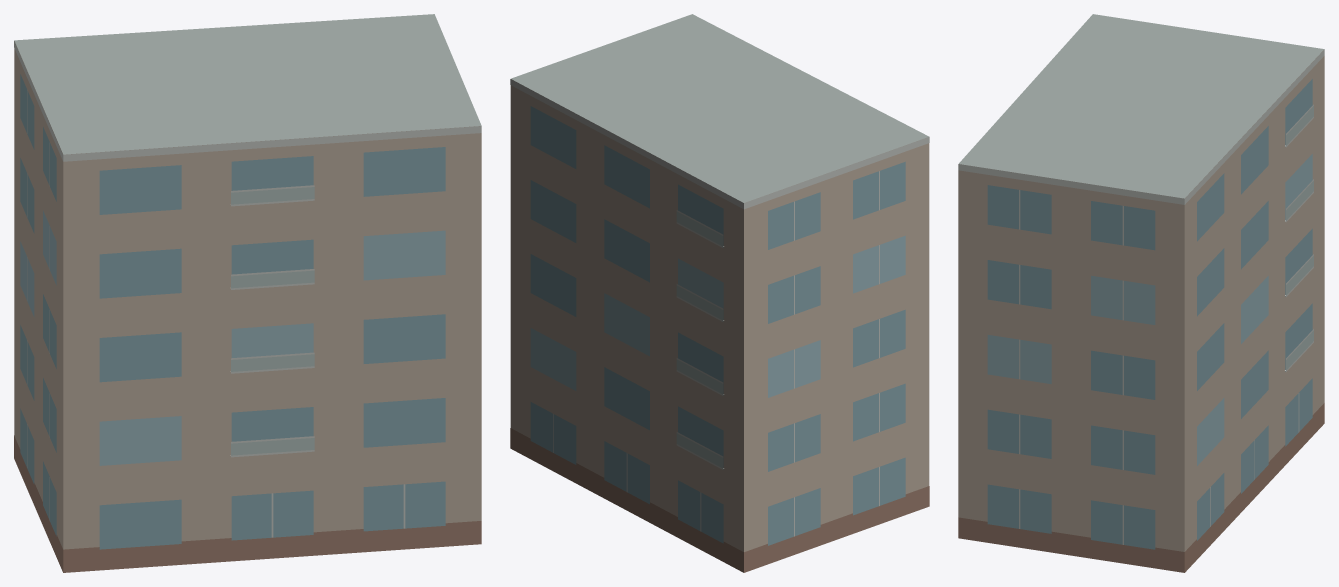
Rendered from survey-upis-32708248.glb.
The picture shows the model from 3 angles, left to right: view 1: azimuth 30°, elevation 25°; view 2: azimuth 150°, elevation 25°; view 3: azimuth 270°, elevation 25°; orthographic projection. The views are drawn at different scales.
Visible parts, largest first — view 1: survey-upis-32708248.tmp; view 2: survey-upis-32708248.tmp; view 3: survey-upis-32708248.tmp.
Part boxes in pixels (<box>): survey-upis-32708248.tmp: <box>14,14,481,572</box>; survey-upis-32708248.tmp: <box>510,14,929,572</box>; survey-upis-32708248.tmp: <box>958,14,1324,572</box>.
Size of the model in its own units: 15.13 by 14.3 by 12.69.
